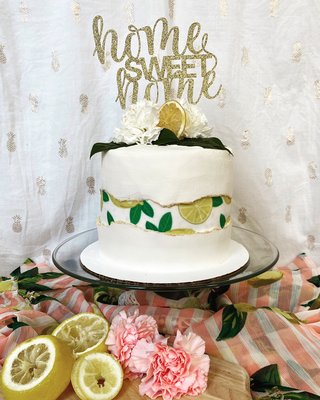pasta: (70, 351, 124, 400)
